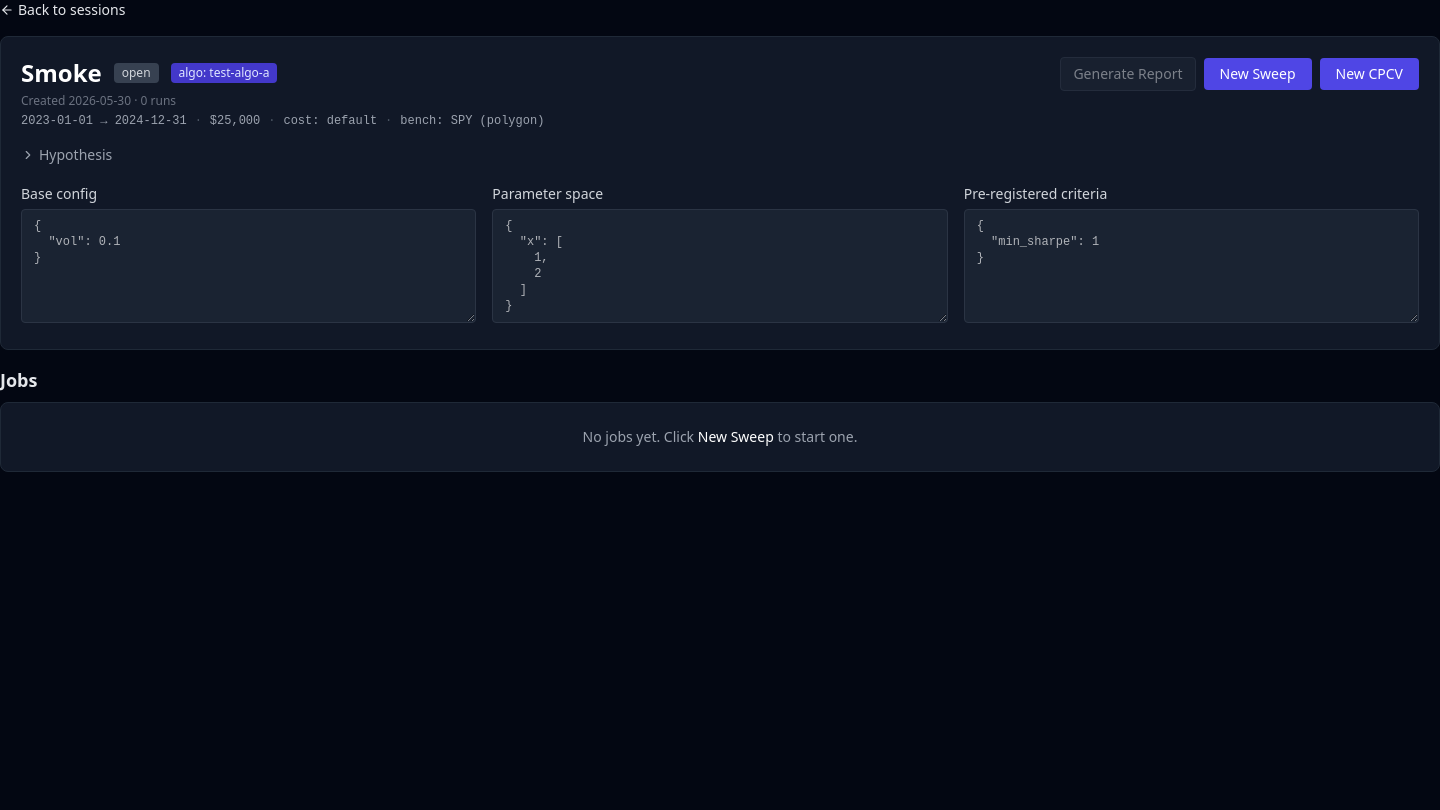
Test: ResearchSessionDetail › New Sweep button opens NewSweepModal
The width and height of the screenshot is (1440, 810).
Check: the heading "Smoke" is shown, box [21,57,102,89]
Click the button "New Sweep": {"x": 1258, "y": 74} [1204,58,1312,90]
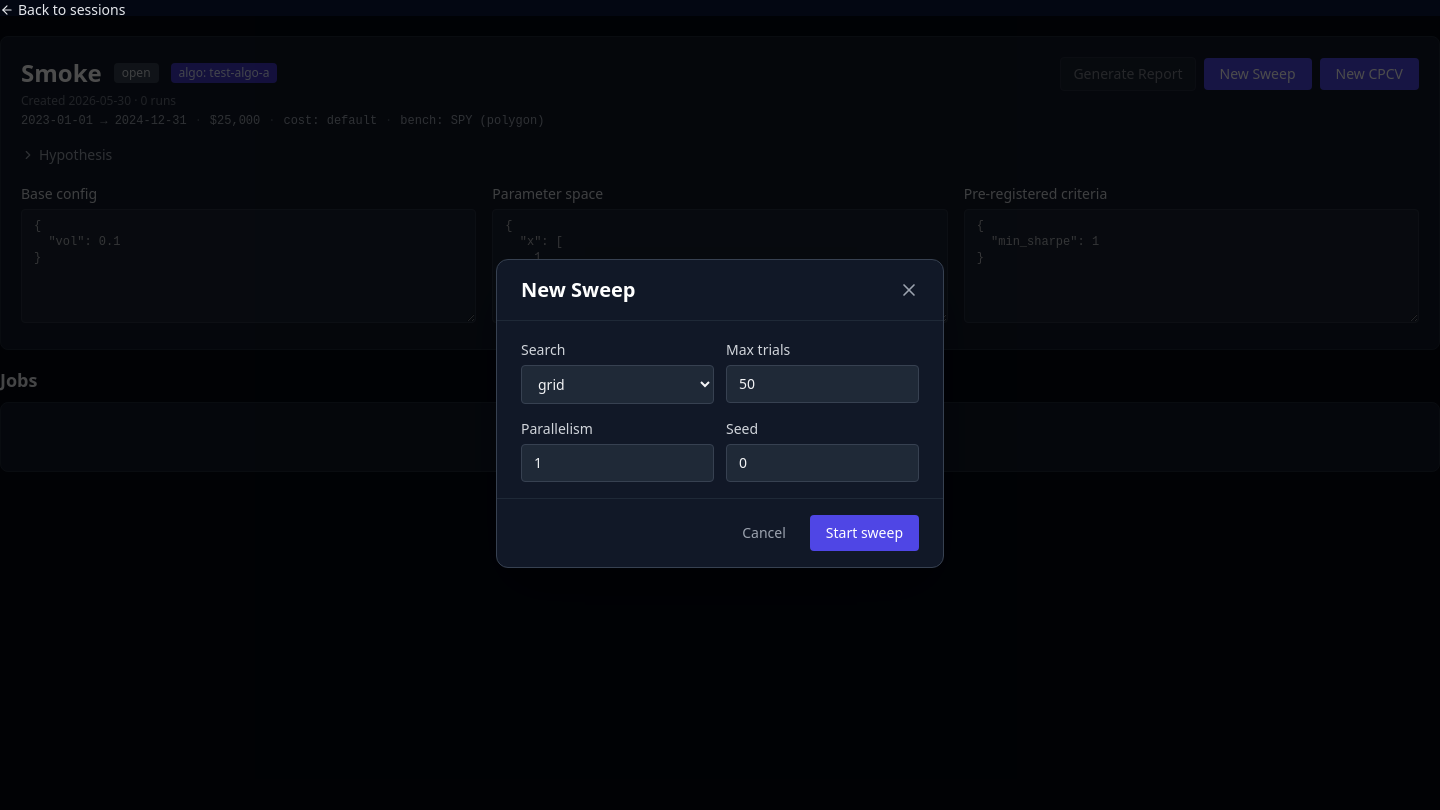
Check: the dropdown labelled "Search" is shown, box [521,364,714,404]
